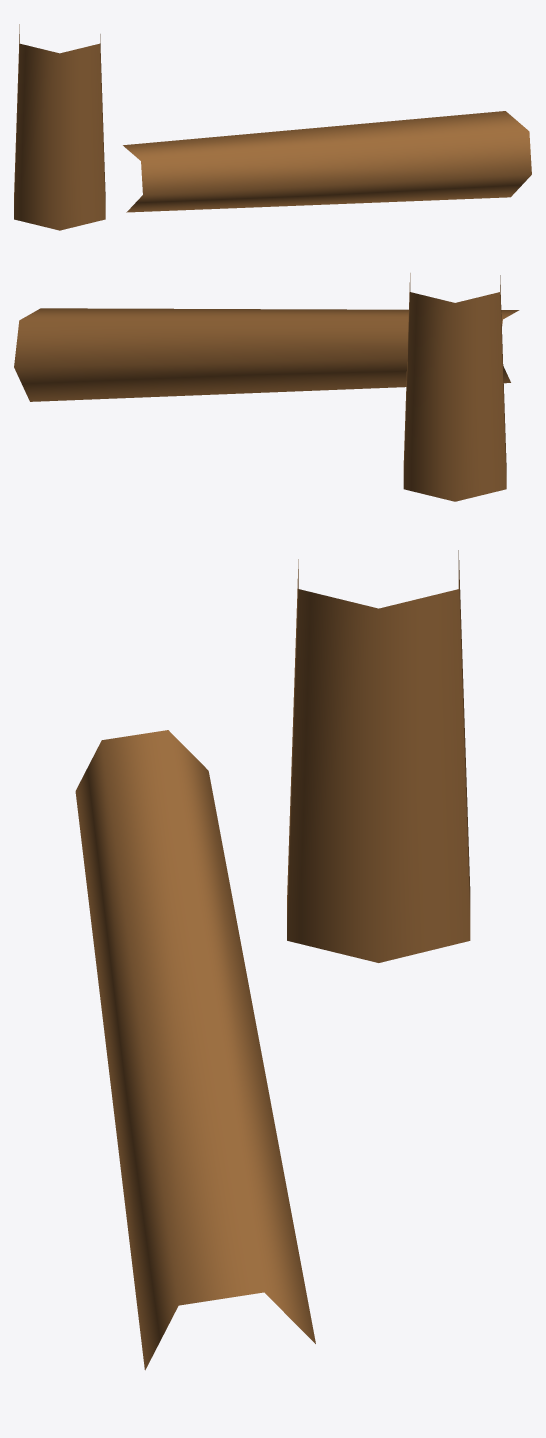
File: palm-tree-wreck.glb
3 views of the same model, one above another, from view 1: azimuth 30°, elevation 25°; view 2: azimuth 150°, elevation 25°; view 3: azimuth 270°, elevation 25° (orthographic). The views are drawn at different scales.
Visible parts, largest first — view 1: Root; view 2: Root; view 3: Root.
Boxes of the visible parts, left/top/right/bottom form: Root: left=14, top=24, right=531, bottom=230; Root: left=14, top=273, right=519, bottom=501; Root: left=75, top=550, right=470, bottom=1370.
Size of the model in its own units: 5.58 by 2.63 by 2.05.
